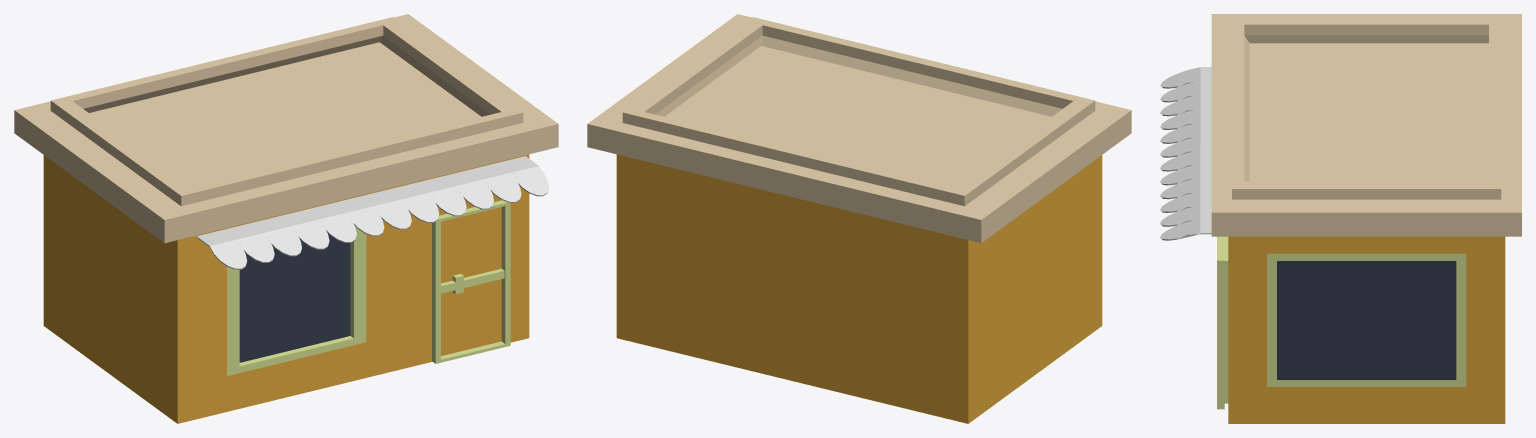
The model's file is store.glb.
3 views of the same model, side by side, from view 1: azimuth 30°, elevation 25°; view 2: azimuth 150°, elevation 25°; view 3: azimuth 270°, elevation 25° (orthographic). The views are drawn at different scales.
Parts seen in each view (by area): view 1: Cube, Circle; view 2: Cube; view 3: Cube, Circle.
Part boxes in pixels (x1,y1,x2,y2): Cube: [14, 14, 558, 423]; Circle: [196, 156, 548, 269]; Cube: [587, 14, 1131, 423]; Cube: [1211, 14, 1521, 423]; Circle: [1160, 67, 1211, 240].
Size of the model in its own units: 4.84 by 2.65 by 3.73.
